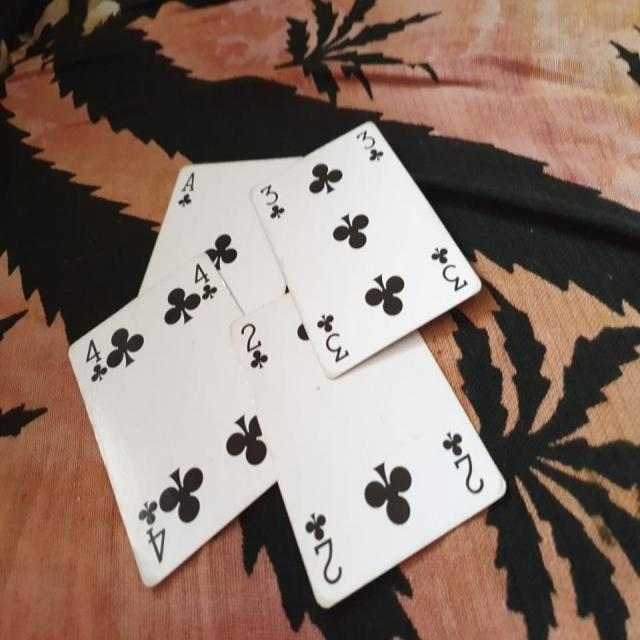2 of clubs: (230, 294, 510, 609)
3 of clubs: (248, 118, 486, 382)
4 of clubs: (68, 254, 281, 590)
ace of clubs: (136, 150, 306, 313)
